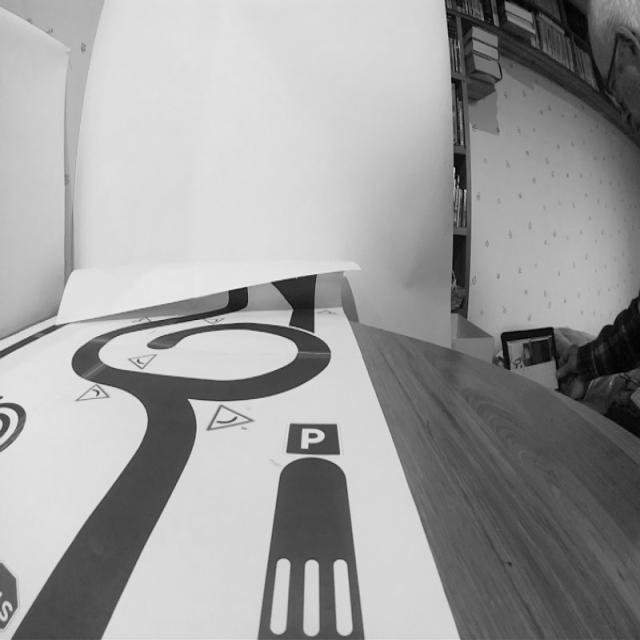Parking: (282, 418, 343, 460)
zebracross: (255, 548, 370, 640)
